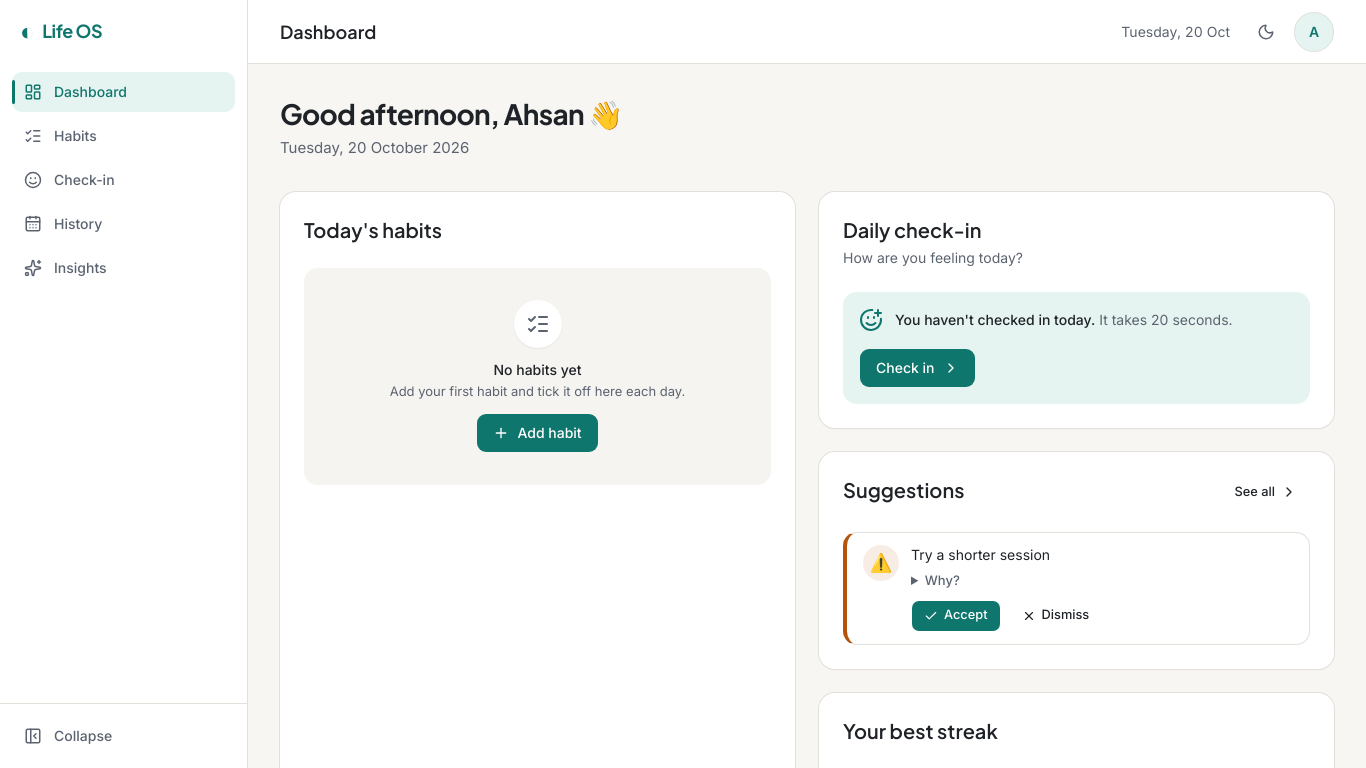
Test: DashboardPage – suggestions › accepts a suggestion from the dashboard
The image size is (1366, 768).
Click the button "Accept" at (956, 616), box [911, 600, 1000, 632]
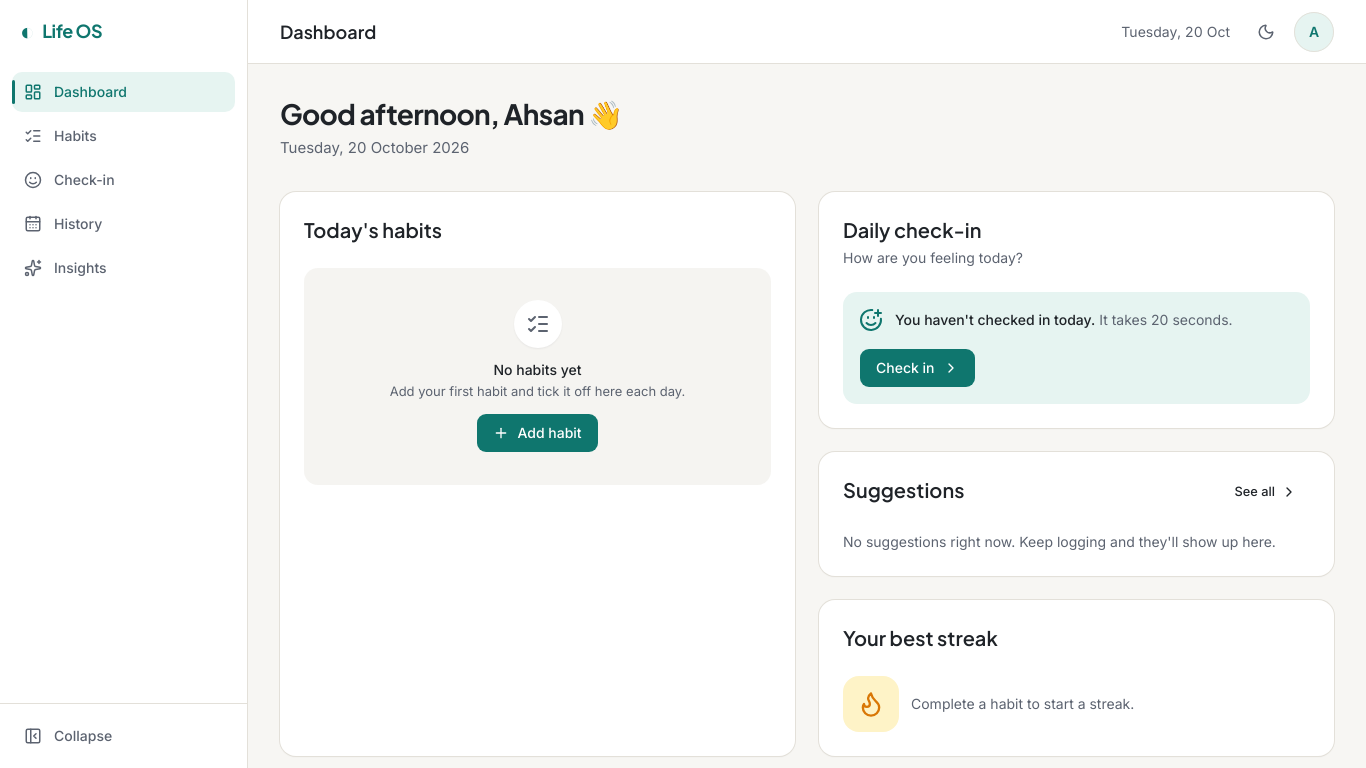
Result: the text "No suggestions right now" is shown at [843, 533, 1276, 550]
